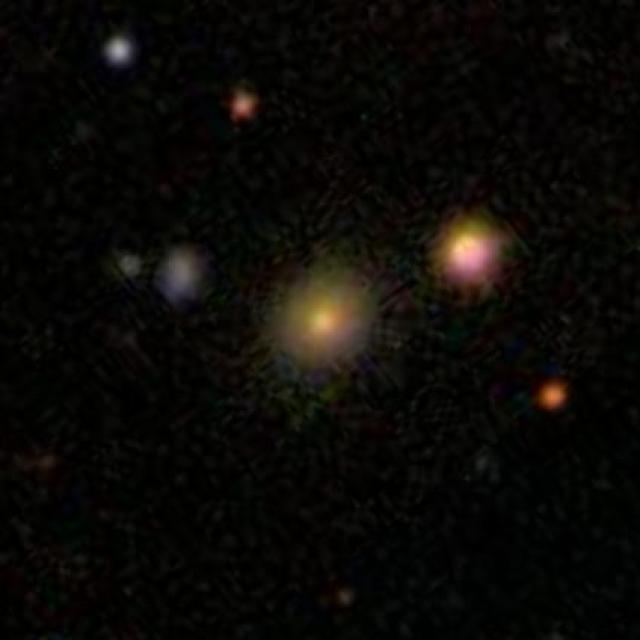galaxy: (258, 250, 386, 388), (425, 202, 523, 304), (153, 244, 216, 312), (221, 79, 263, 132), (530, 371, 571, 419), (98, 32, 140, 72), (114, 250, 151, 284)
